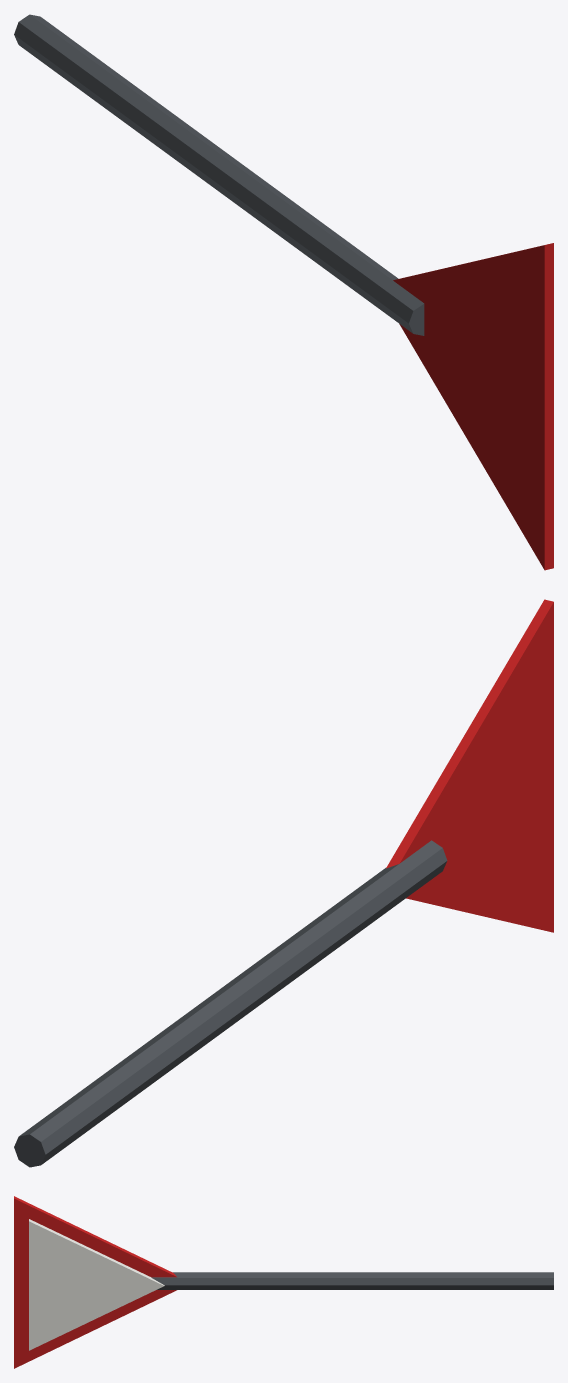
File: sign_yield.obj
3 renders of one model, top to bottom at view 1: azimuth 30°, elevation 25°; view 2: azimuth 150°, elevation 25°; view 3: azimuth 270°, elevation 25°, orthographic. The views are drawn at different scales.
Visible parts, largest first — view 1: sign_yield_rim, sign_yield_pole; view 2: sign_yield_rim, sign_yield_pole; view 3: sign_yield_face, sign_yield_pole, sign_yield_rim.
Part boxes in pixels (bbox=[...]): sign_yield_rim: bbox=[393, 243, 553, 570]; sign_yield_pole: bbox=[14, 14, 424, 335]; sign_yield_rim: bbox=[386, 599, 553, 932]; sign_yield_pole: bbox=[14, 840, 447, 1167]; sign_yield_face: bbox=[29, 1219, 164, 1350]; sign_yield_pole: bbox=[151, 1272, 553, 1289]; sign_yield_rim: bbox=[14, 1196, 176, 1368].
Size of the model in its own units: 0.11 by 1 by 2.87.
